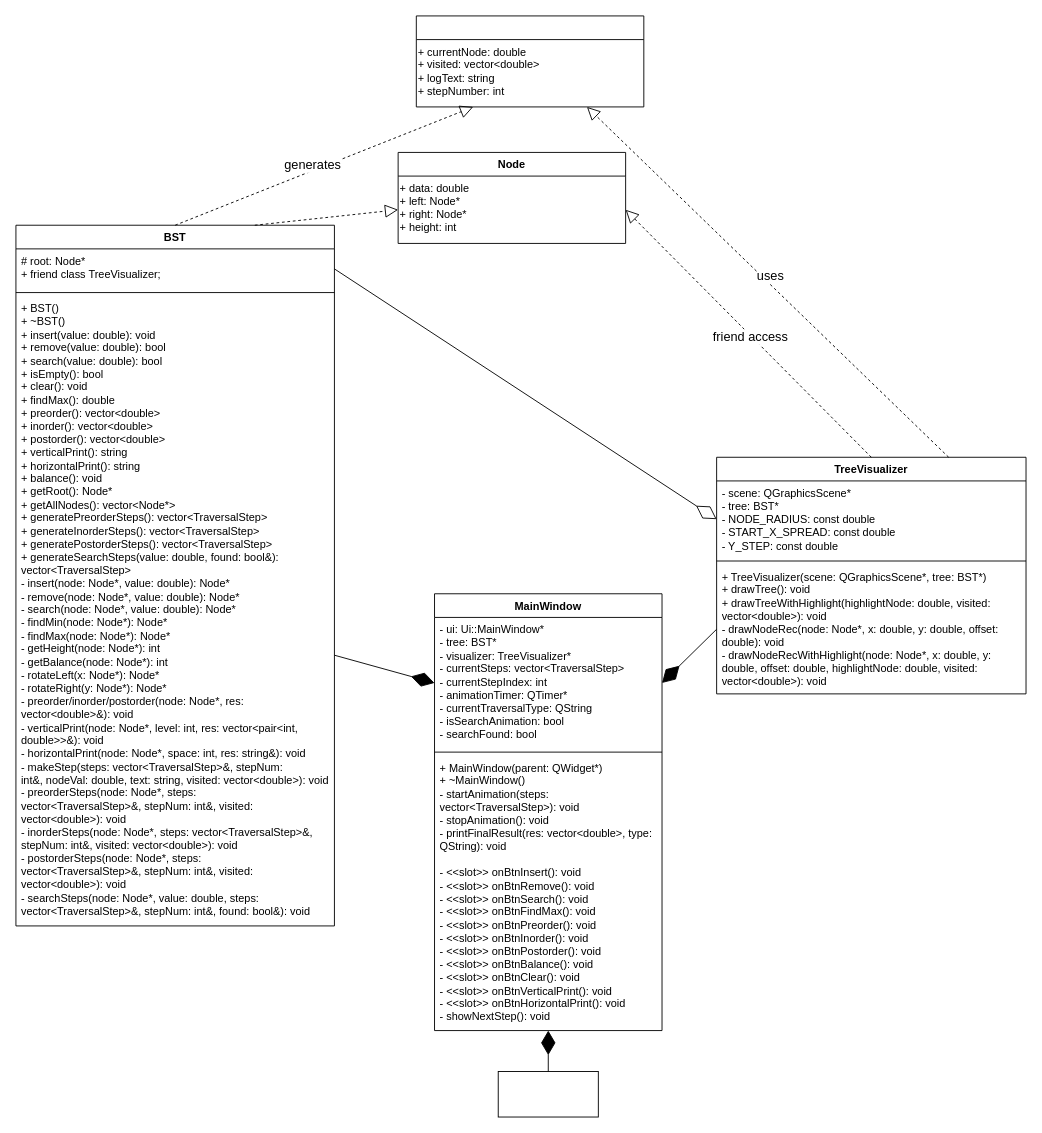
Some shapes in this 1042 by 1133 pixel diagram are drawn without their labels. Each missing label, with the box of its shape:
QTimer: (497, 1071, 598, 1117)
TraversalStep: (415, 15, 644, 107)
